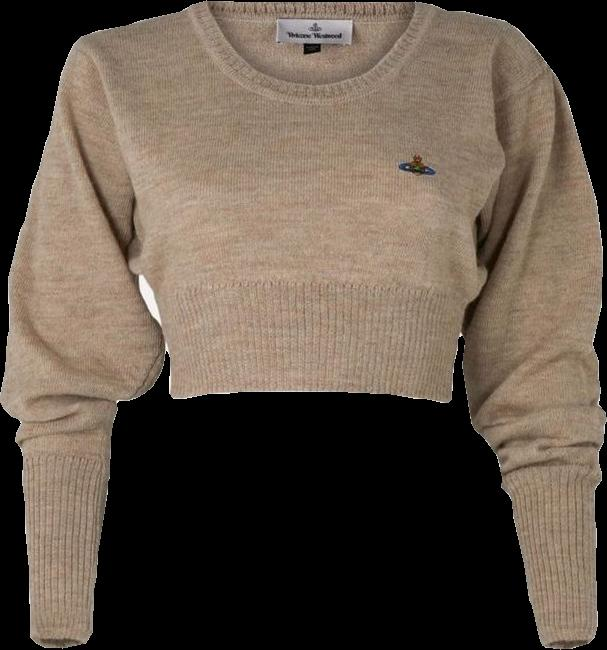Bodice: (74, 1, 547, 402)
Neckline: (201, 0, 419, 93)
Sleeve: (0, 42, 165, 647), (460, 67, 606, 647)
Sleeveline: (475, 66, 553, 271), (73, 41, 137, 246), (500, 474, 600, 493), (22, 450, 110, 462)
Waistline: (166, 384, 454, 406)
